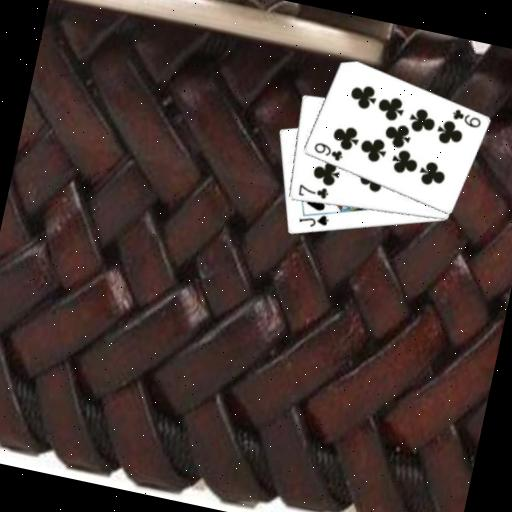7C: (294, 179, 331, 203)
9C: (447, 104, 484, 131), (309, 138, 346, 163)
JS: (294, 207, 331, 232)
